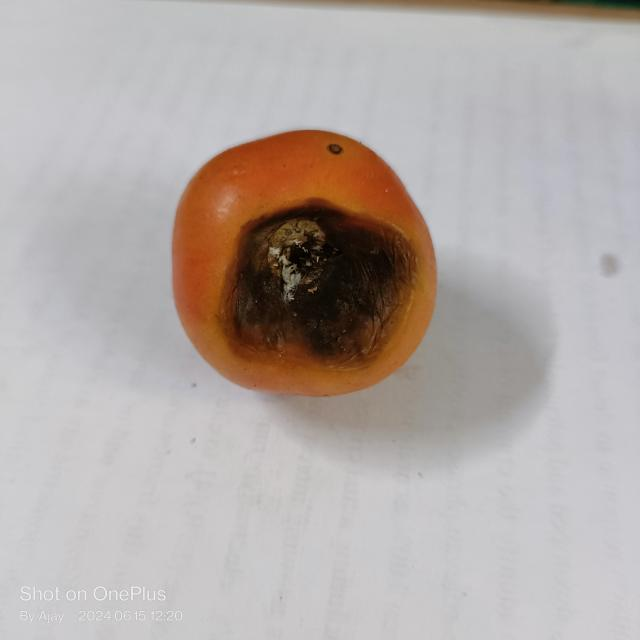Anthrocnose: (220, 196, 417, 371)
